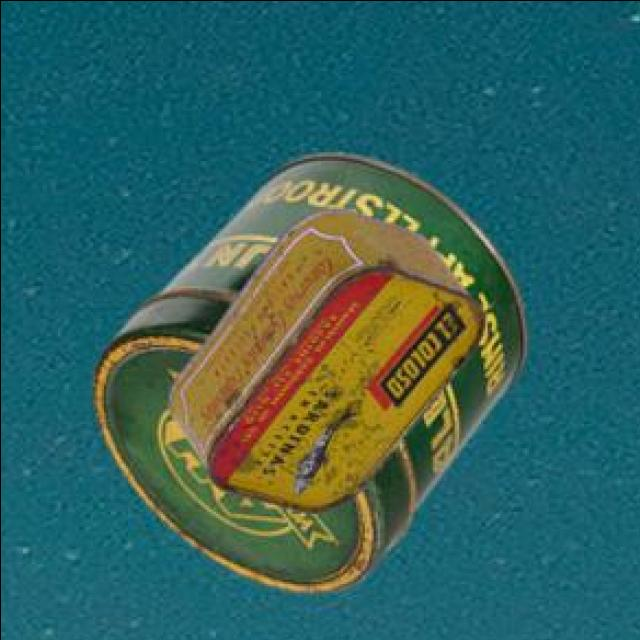logam: (95, 157, 529, 595), (172, 212, 488, 516)
